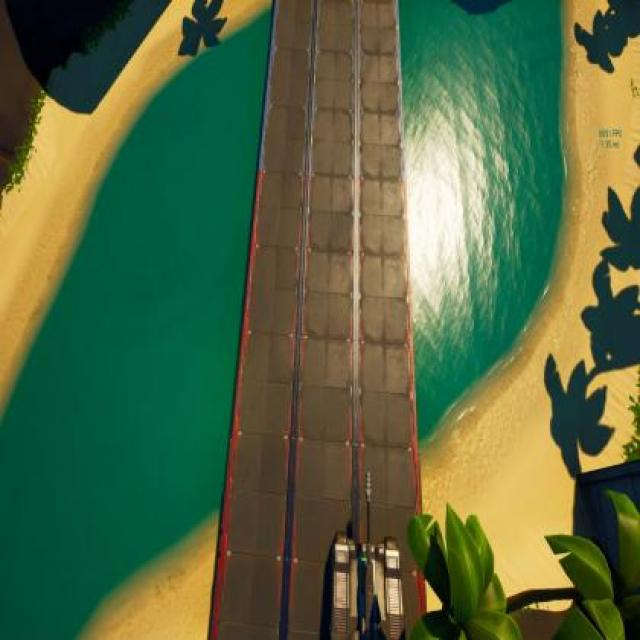tank: (329, 475, 405, 640)
